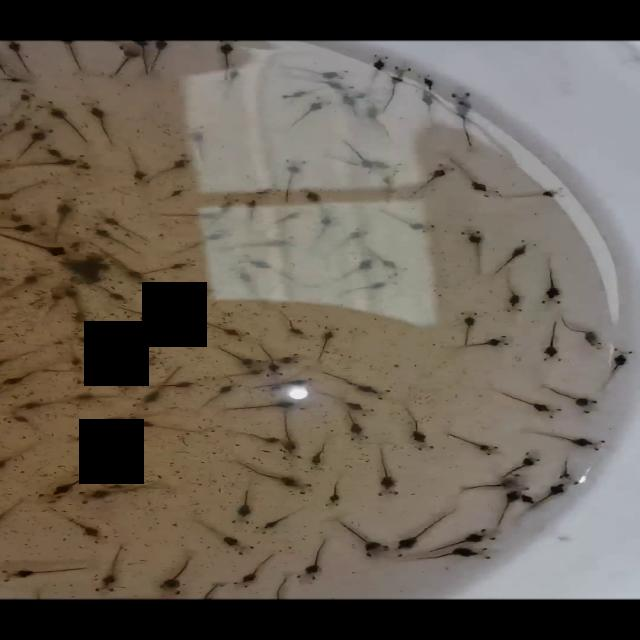shrimp2: (524, 426, 616, 454), (156, 548, 202, 598), (490, 233, 542, 276), (445, 84, 482, 144), (0, 560, 95, 582), (80, 95, 119, 148), (442, 430, 510, 460), (297, 532, 333, 587), (55, 511, 111, 545), (92, 543, 130, 593), (45, 193, 81, 243), (374, 443, 406, 497), (278, 153, 311, 205), (402, 402, 436, 451), (253, 506, 305, 536), (458, 223, 487, 275), (314, 318, 345, 364), (541, 251, 565, 310), (226, 484, 257, 527), (278, 308, 314, 342), (317, 474, 350, 510), (538, 319, 562, 366), (183, 124, 208, 168), (126, 146, 152, 188), (510, 185, 572, 202), (453, 308, 479, 344)
